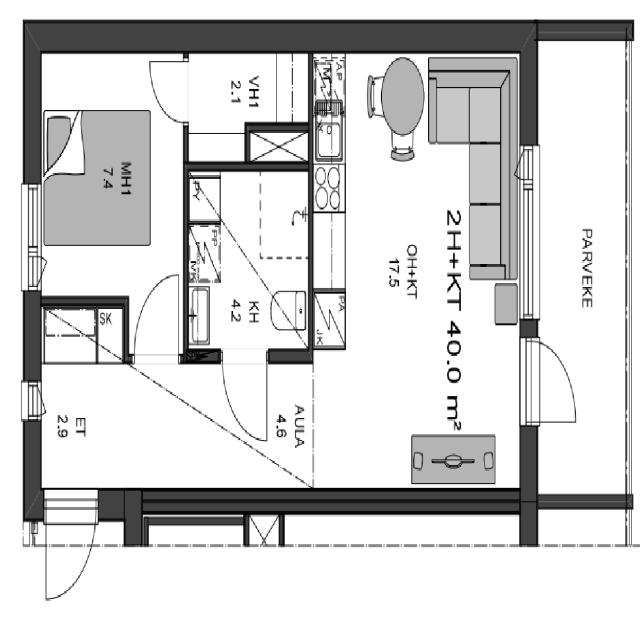door: (338, 82, 508, 482), (39, 504, 98, 607), (130, 264, 184, 368), (525, 332, 578, 432), (220, 347, 272, 442), (147, 50, 193, 126), (40, 106, 78, 170), (19, 376, 49, 426), (23, 244, 49, 292)
window: (512, 125, 546, 339), (144, 521, 248, 557), (20, 175, 44, 254)
zone: (328, 73, 516, 501), (534, 16, 629, 501), (38, 42, 180, 318), (183, 162, 312, 361), (185, 42, 310, 139), (250, 128, 310, 166)
